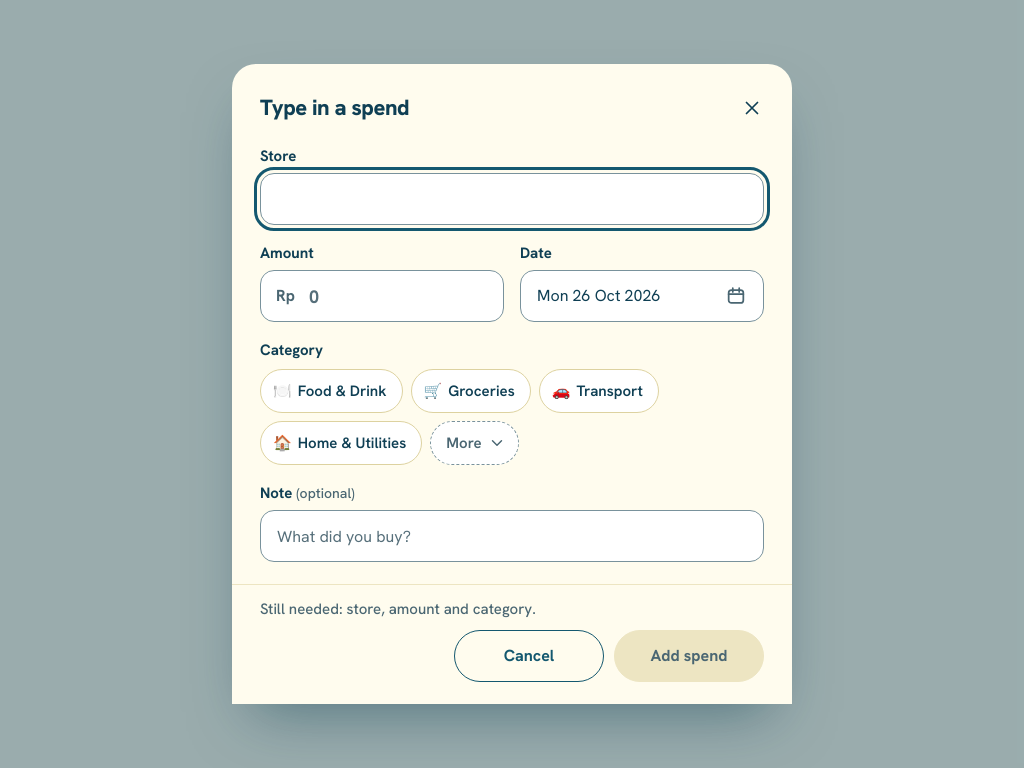
Test: type in a spend › answers a press while not ready by naming what is missing and focusing the first
Click the button "Add spend" at (689, 656), box [614,630,764,682]
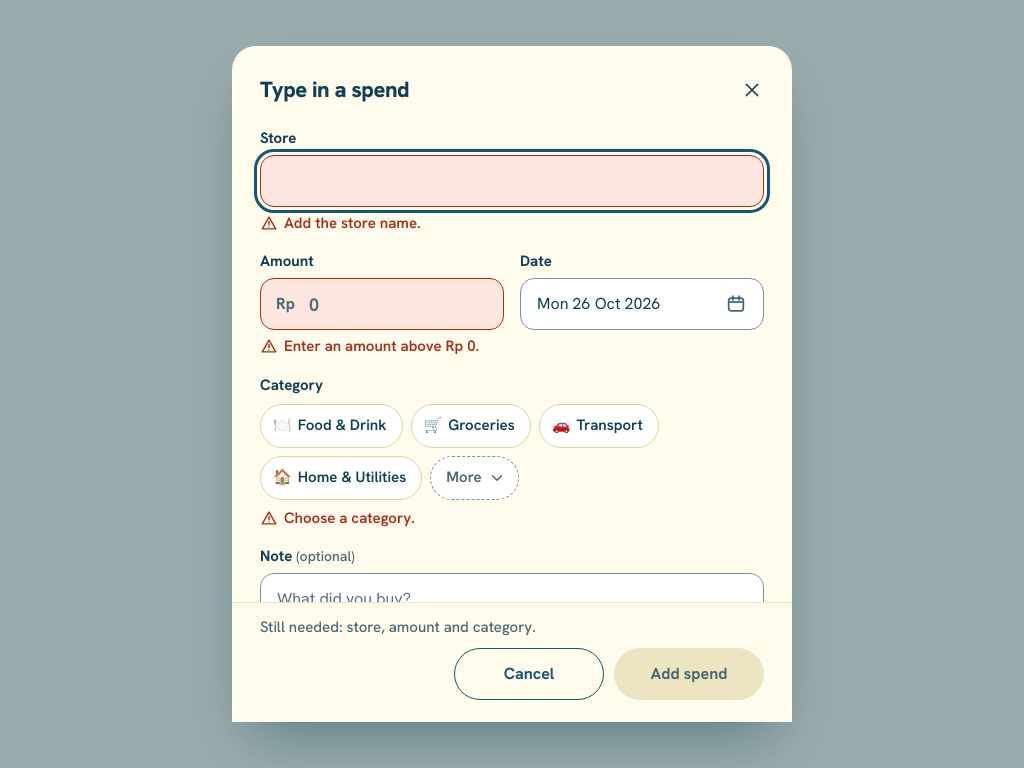
expect the text "Add the store name." is shown: met, box [284,213,421,233]
expect the text "Enter an amount above Rp 0." is shown: met, box [284,336,479,357]
expect the text "Choose a category." is shown: met, box [284,508,415,528]
